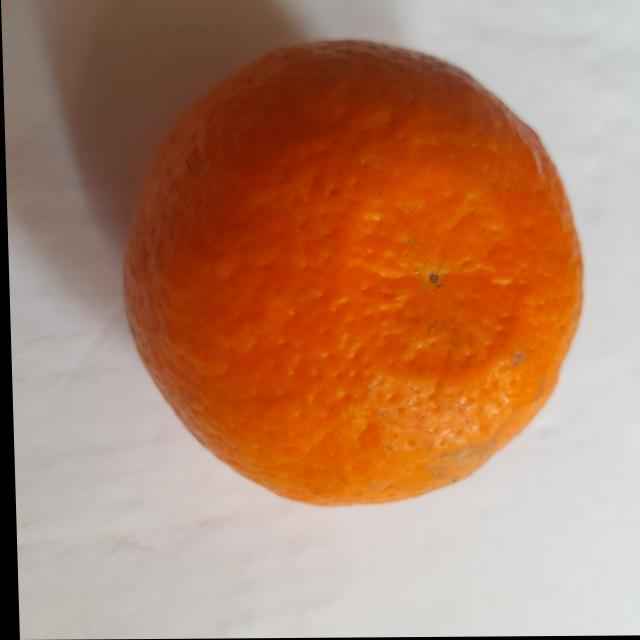Cam: (84, 23, 601, 537)
